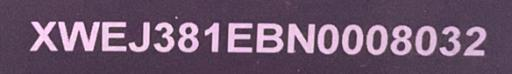letter: (56, 17, 100, 52), (26, 18, 60, 52), (254, 21, 286, 53), (99, 18, 129, 52), (224, 19, 254, 53), (286, 20, 316, 54), (315, 21, 341, 55), (364, 22, 390, 56), (460, 25, 488, 56), (152, 18, 176, 54), (412, 23, 438, 56), (388, 23, 414, 55), (176, 19, 200, 53), (438, 23, 462, 56), (340, 22, 364, 54), (128, 19, 150, 53), (202, 20, 220, 54)
